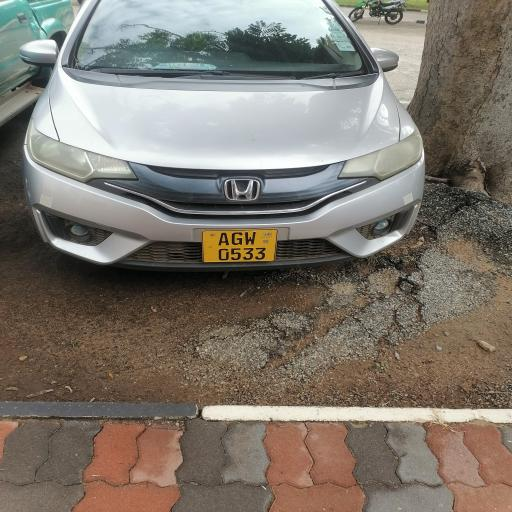number-plates: (198, 222, 286, 265)
